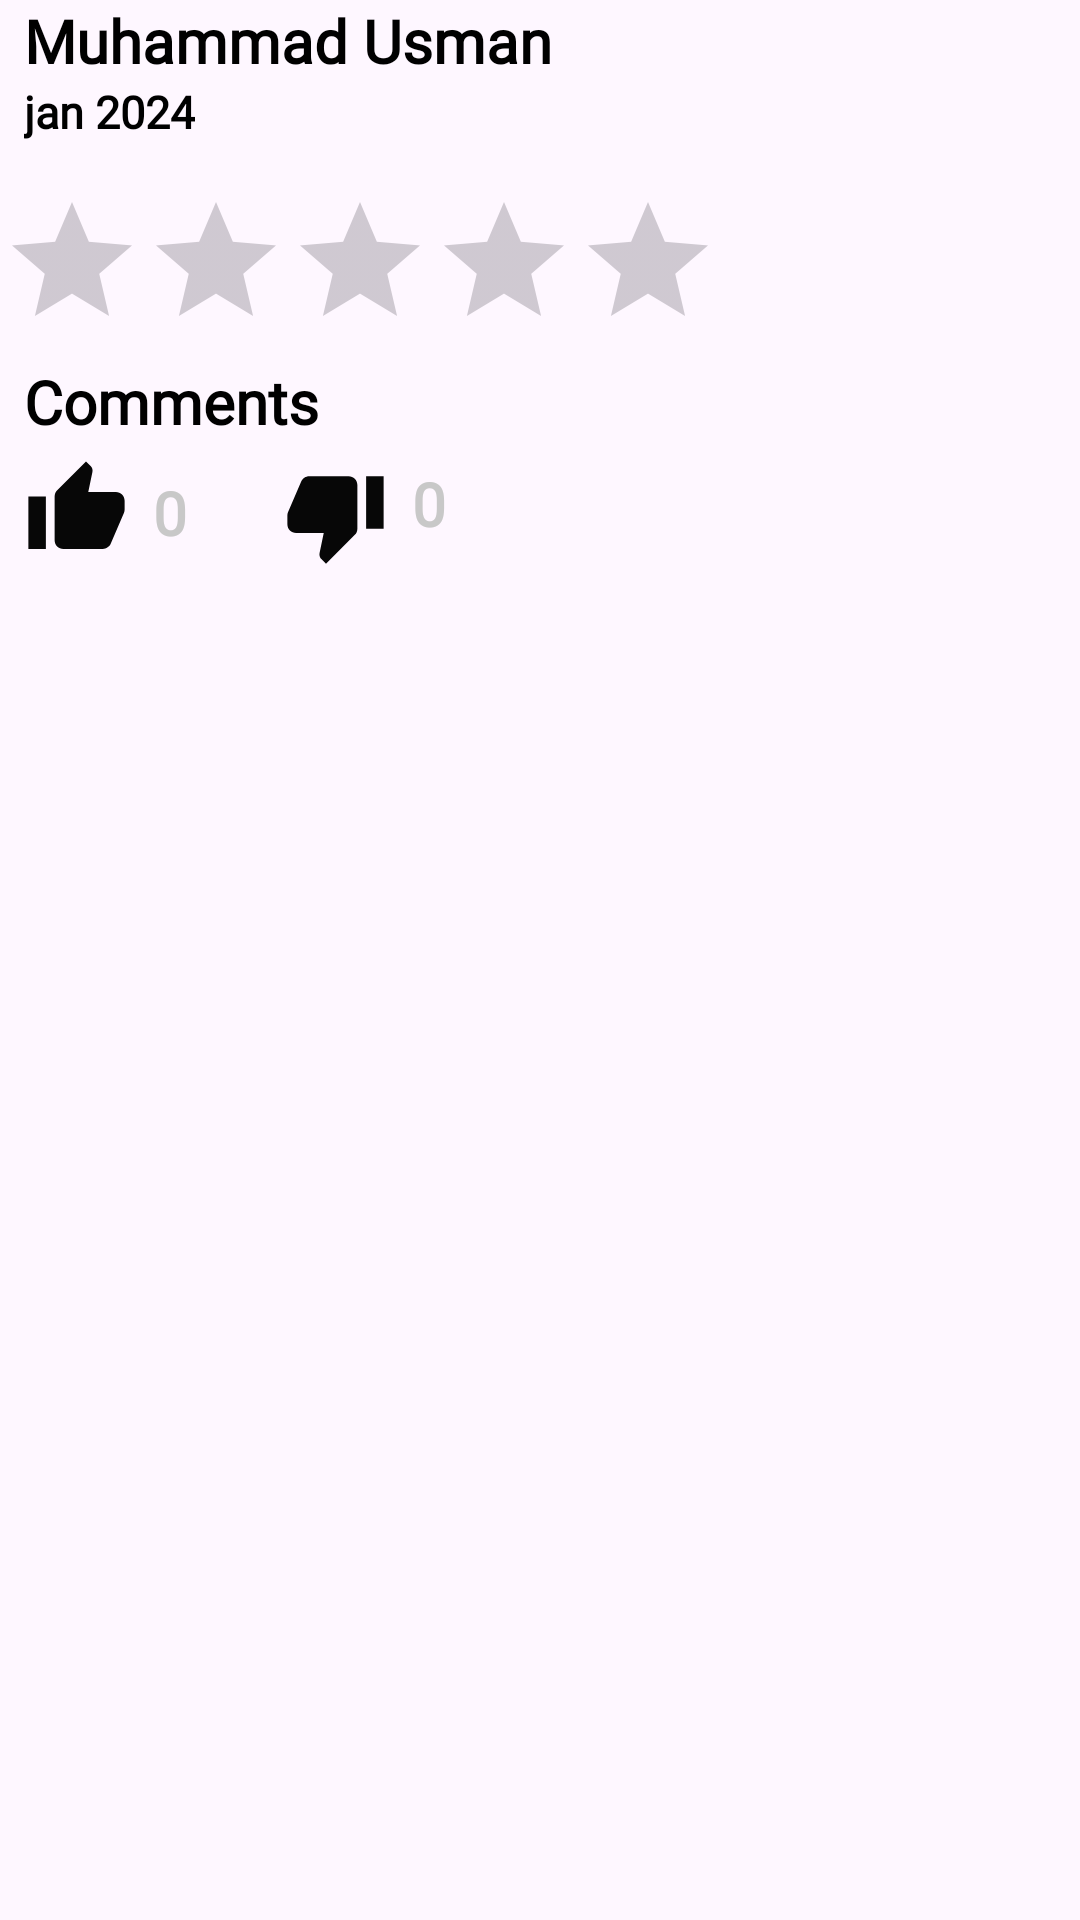

Named icons in this screenshot (1080px x 1920px) and their bounding boxes, {"x1": x1, "y1": y1, "x2": x2, "y2": y2}:
thumb down: {"x1": 287, "y1": 476, "x2": 384, "y2": 564}
thumb up: {"x1": 28, "y1": 461, "x2": 125, "y2": 549}
